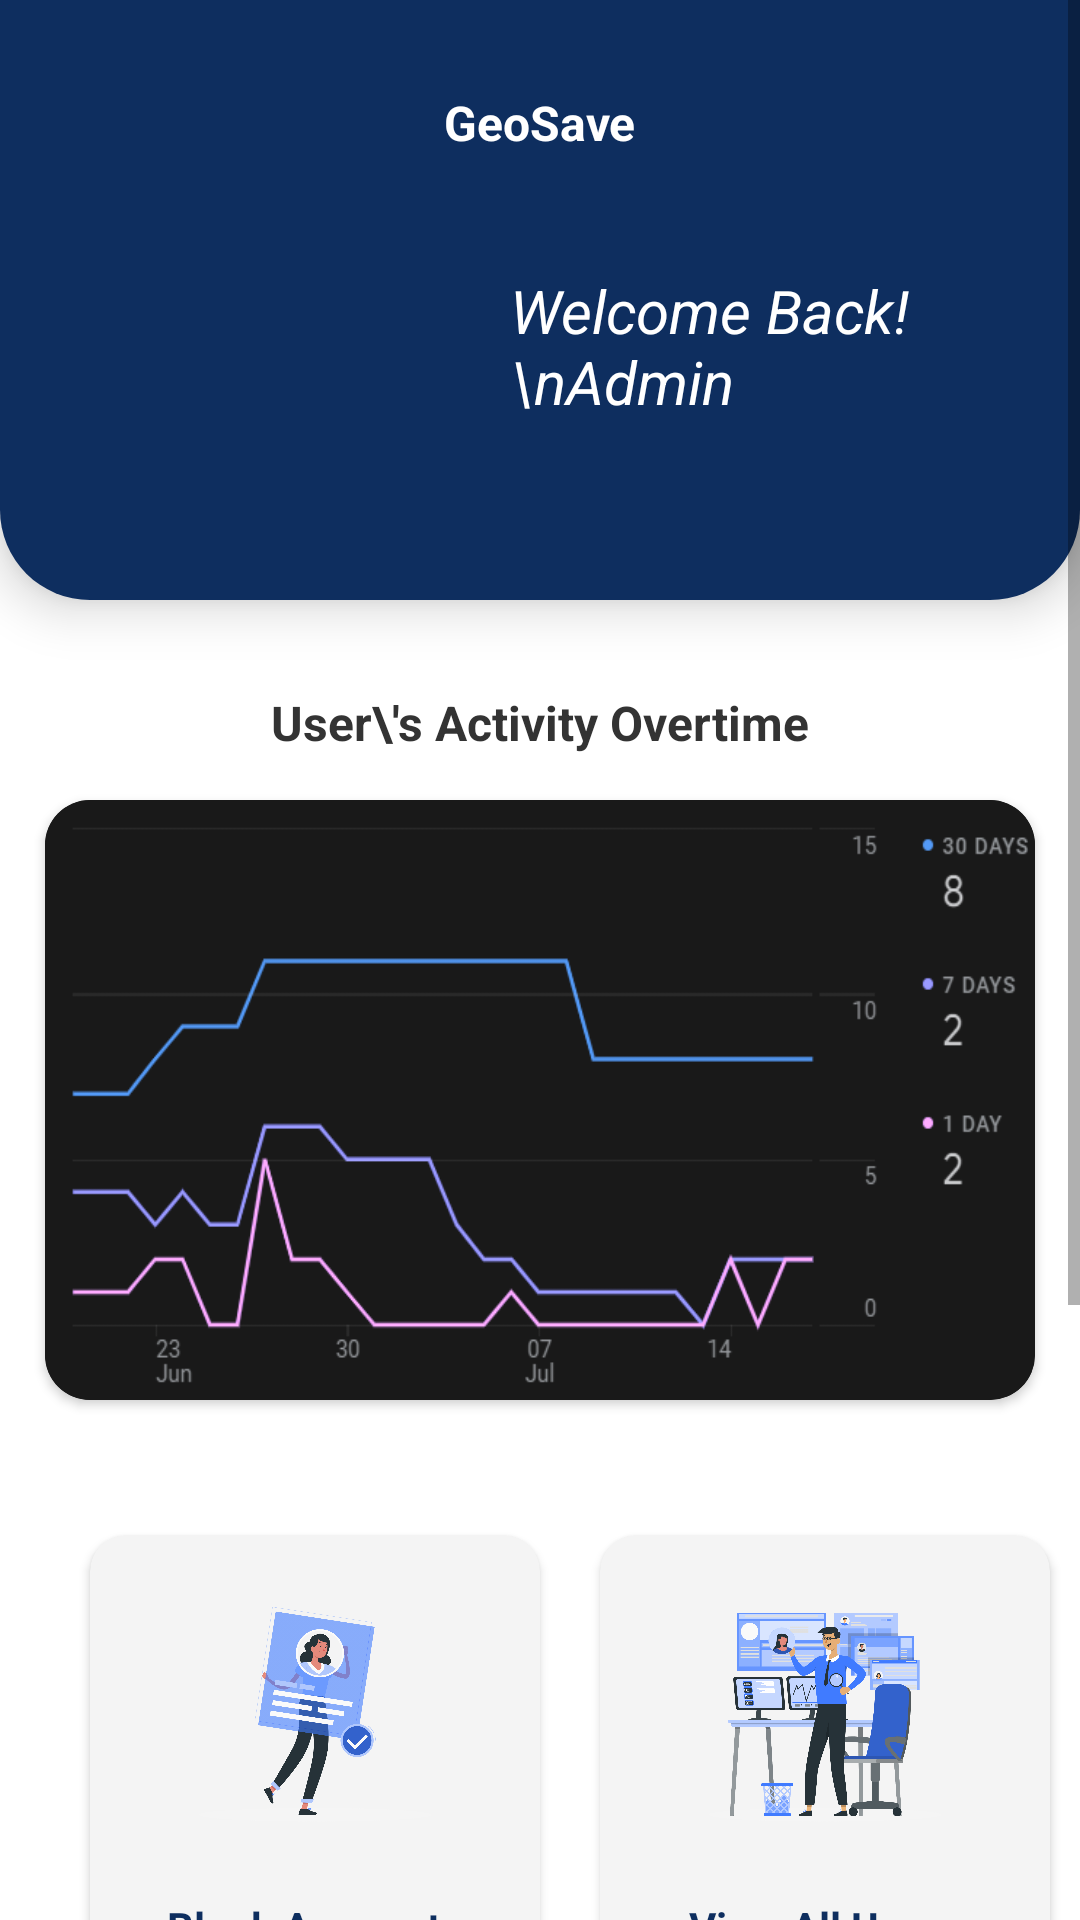

Named icons in this screenshot (1080 x 1920) and their centers, (x=x, y=y):
viewusers: (x=824, y=1714)
